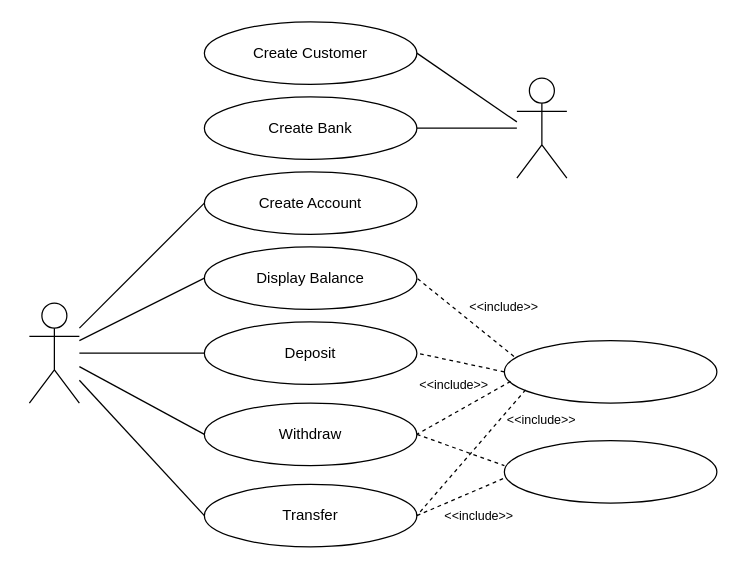
The diagram is 739 pixels wide and 569 high, and some of its shapes have lost their labels. The shapes that lost their labels are listed below. From the top down, each one's box as (x1, y1, x2, y2) in pixels, then its label:
(516, 77, 567, 178): Admin
(28, 302, 79, 403): Customer
(503, 339, 717, 403): Account exists
(503, 439, 717, 503): Check balance
